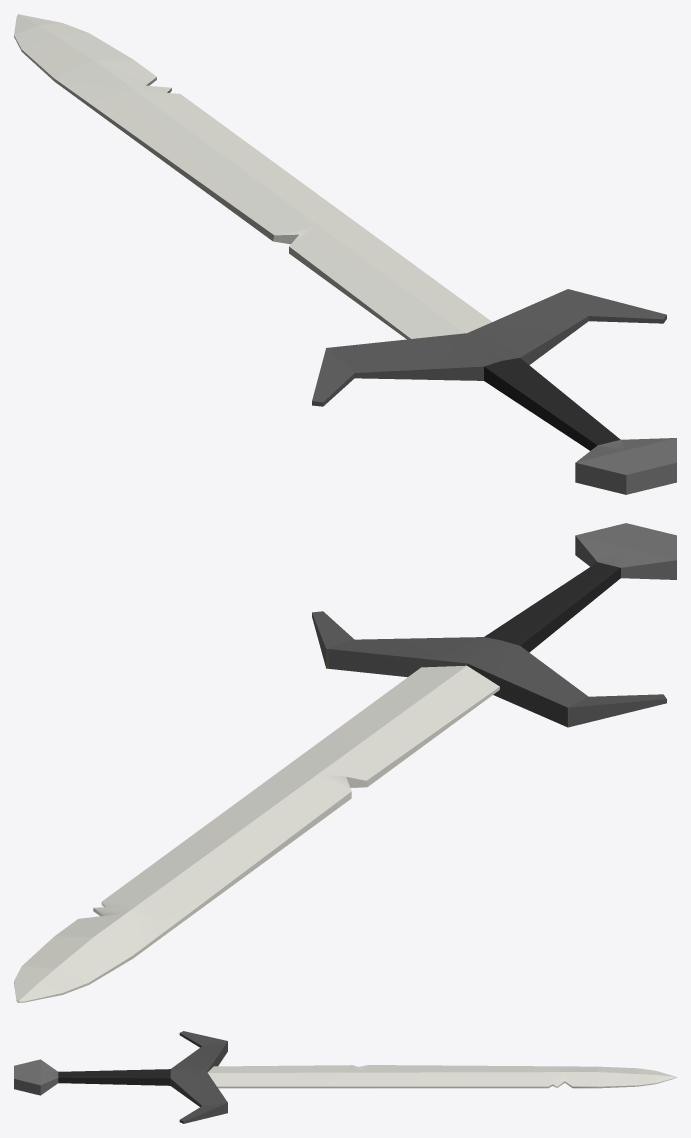
Rendered from SM_Sword.fbx.
The picture shows the model from 3 angles, top to bottom: view 1: azimuth 30°, elevation 25°; view 2: azimuth 150°, elevation 25°; view 3: azimuth 270°, elevation 25°; orthographic projection. The views are drawn at different scales.
Parts seen in each view (by area): view 1: Sword_GEO; view 2: Sword_GEO; view 3: Sword_GEO.
Boxes of the visible parts, left/top/right/bottom form: Sword_GEO: left=14, top=14, right=676, bottom=494; Sword_GEO: left=14, top=523, right=676, bottom=1002; Sword_GEO: left=14, top=1031, right=676, bottom=1123.
Bounding box in the file's own units: 38.68 × 2.15 × 120.
